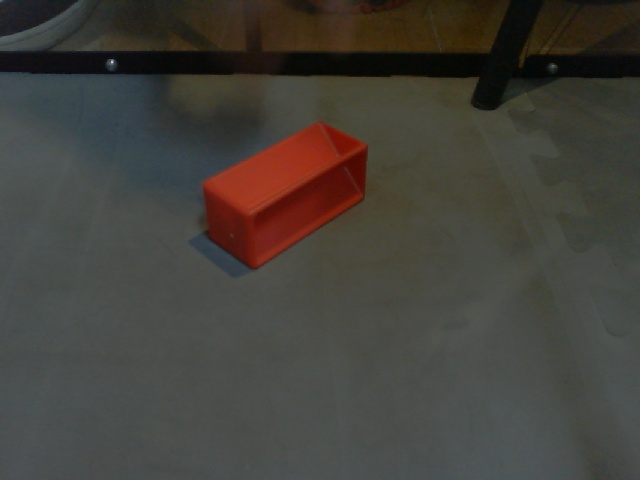RedSample: (199, 117, 370, 270)
